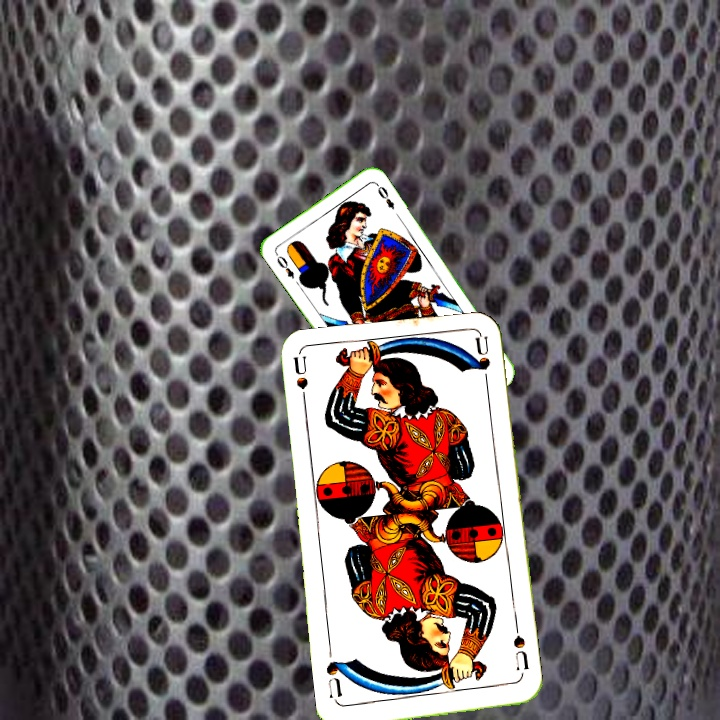EO: (271, 249, 297, 281)
SU: (509, 622, 532, 681), (289, 354, 311, 414)
